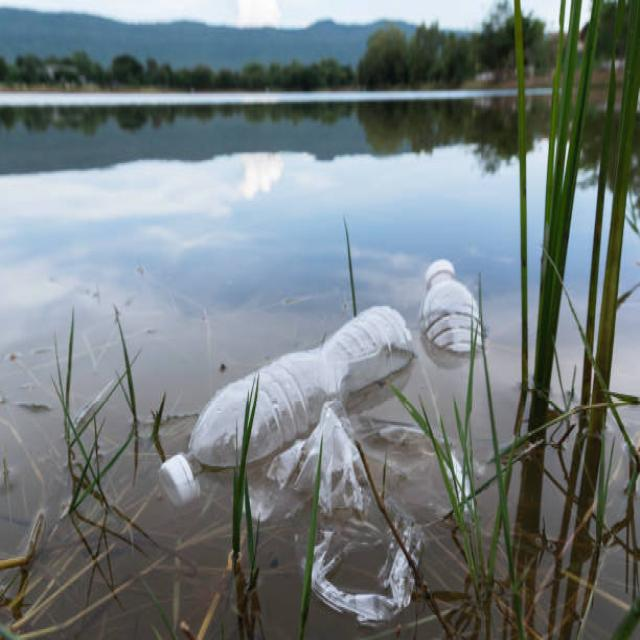plastic: (156, 301, 406, 493)
